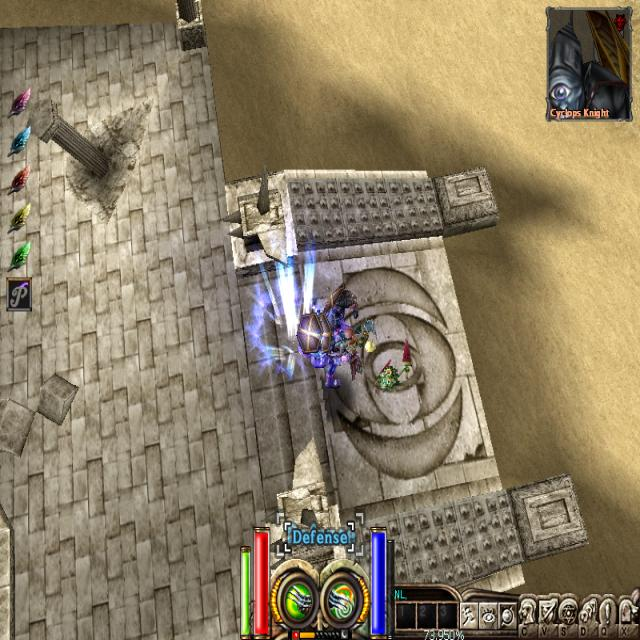monster: (369, 358, 415, 401), (318, 311, 350, 353), (296, 312, 324, 358), (364, 337, 378, 360)
